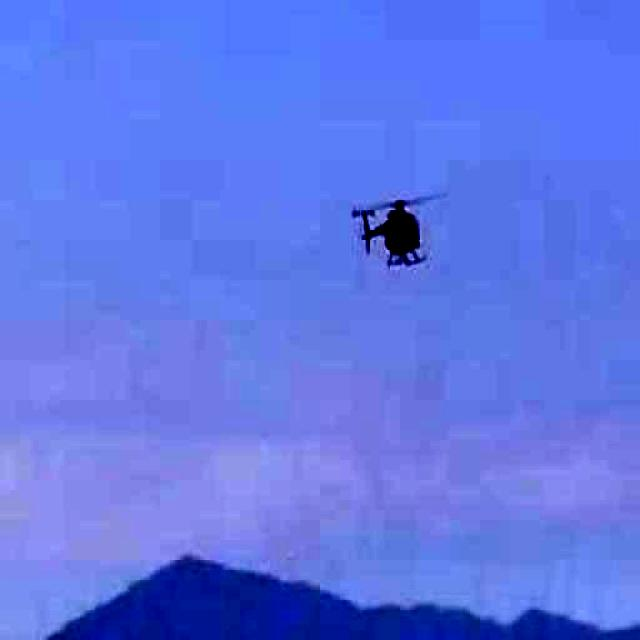drone: (329, 164, 459, 290)
